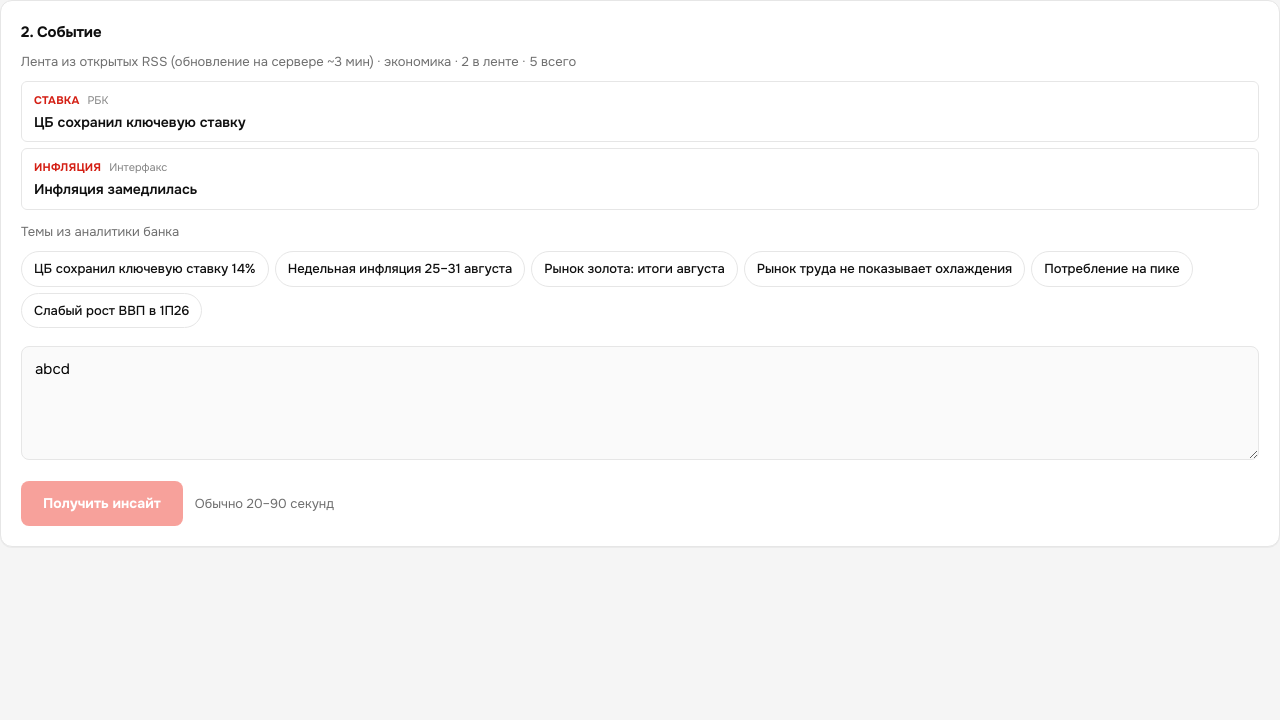
Test case: EventPicker › disables the run button for text shorter than 5 characters
The width and height of the screenshot is (1280, 720).
Check: the button "Получить инсайт" is disabled, box [21, 481, 183, 526]
Type "e" into the text box at coordinates (640, 403), box [21, 346, 1259, 460]
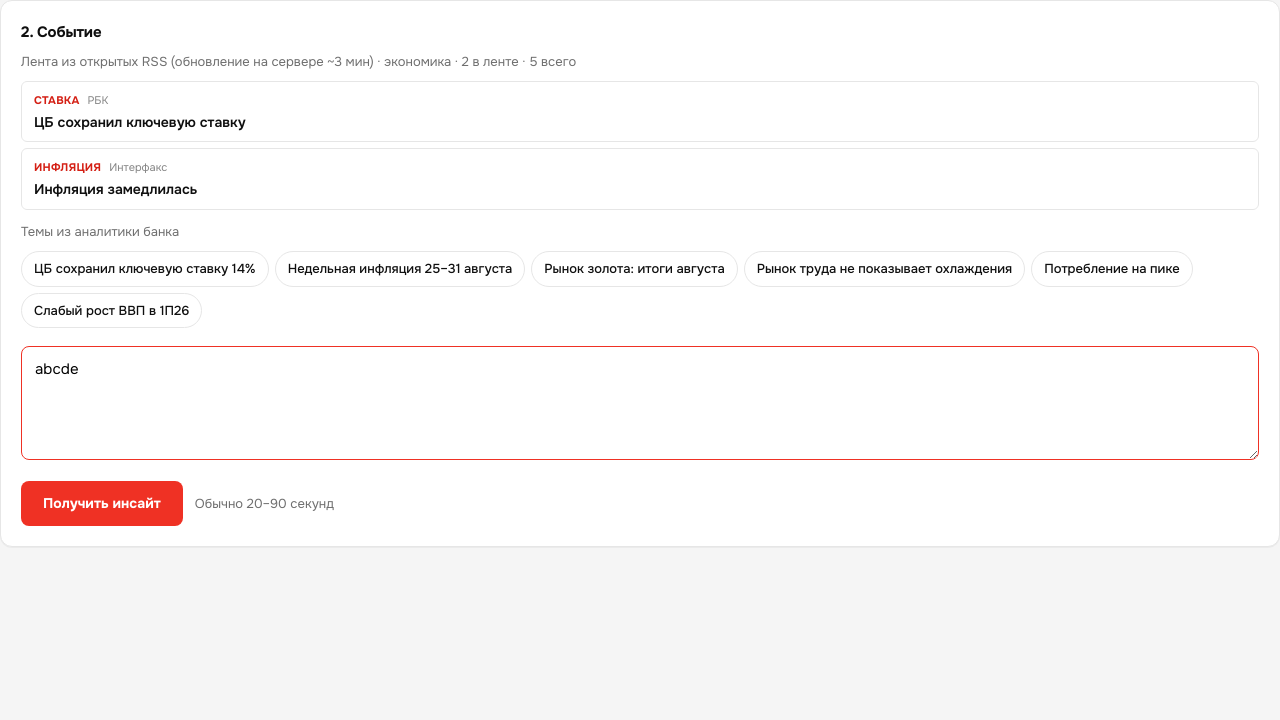
Check: the button "Получить инсайт" is enabled, box [21, 481, 183, 526]
